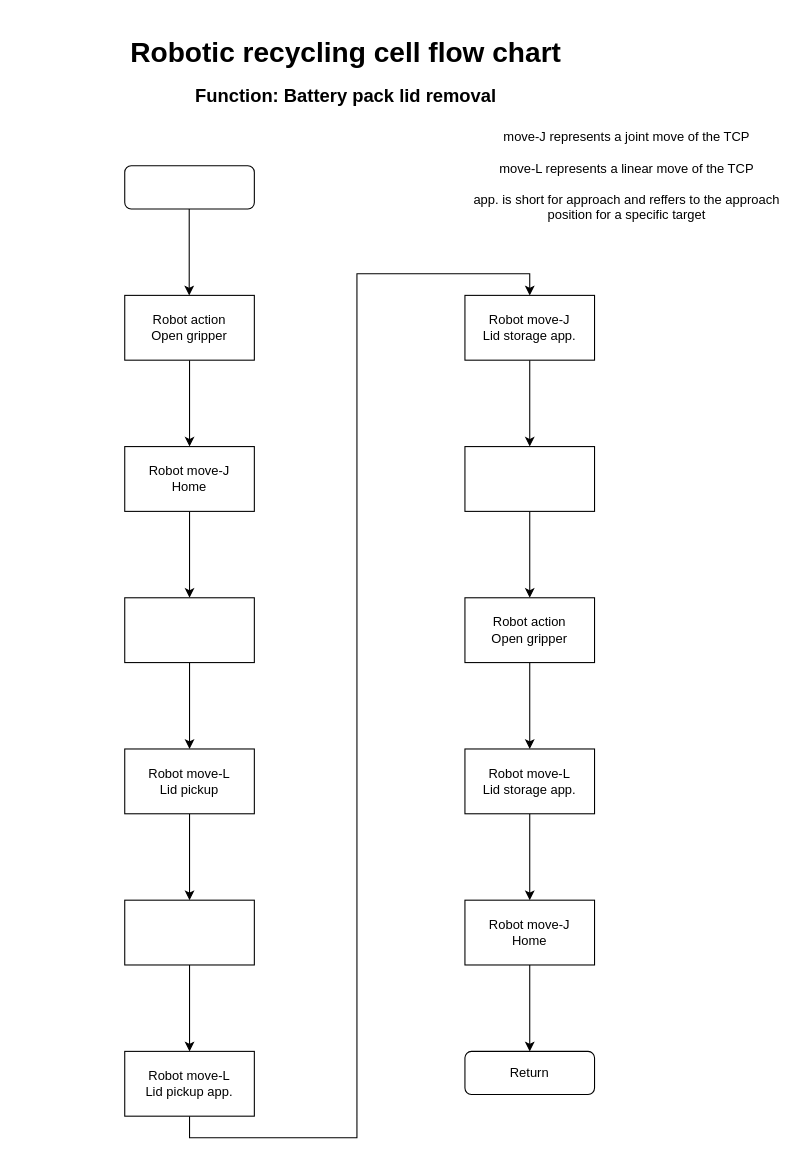
Some shapes in this 807 by 1165 pixel diagram are drawn without their labels. The shapes that lost their labels are listed below. From the top down, each one's centre as x and y in pixels, then its label:
At (x=189, y=187): "Entry point".
At (x=529, y=478): "Robot move-L Lid storage".
At (x=189, y=630): "Robot move-J Lid pickup app.".
At (x=189, y=932): "Robot action Close gripper".
